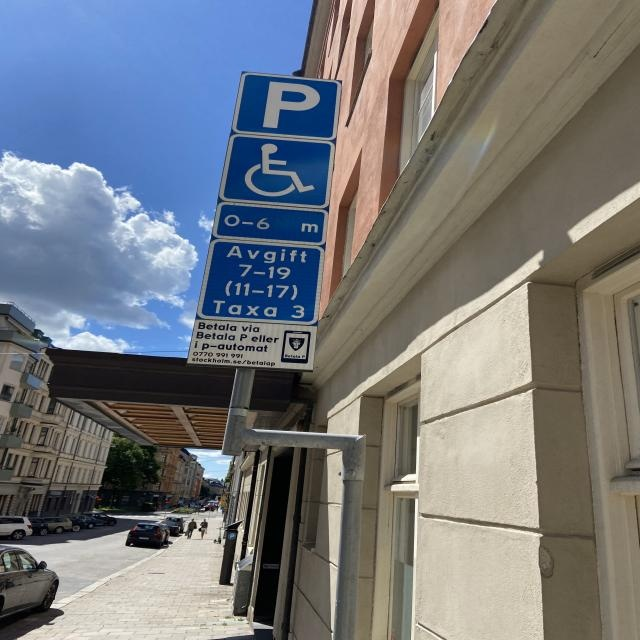P-skylt: (233, 69, 342, 142)
